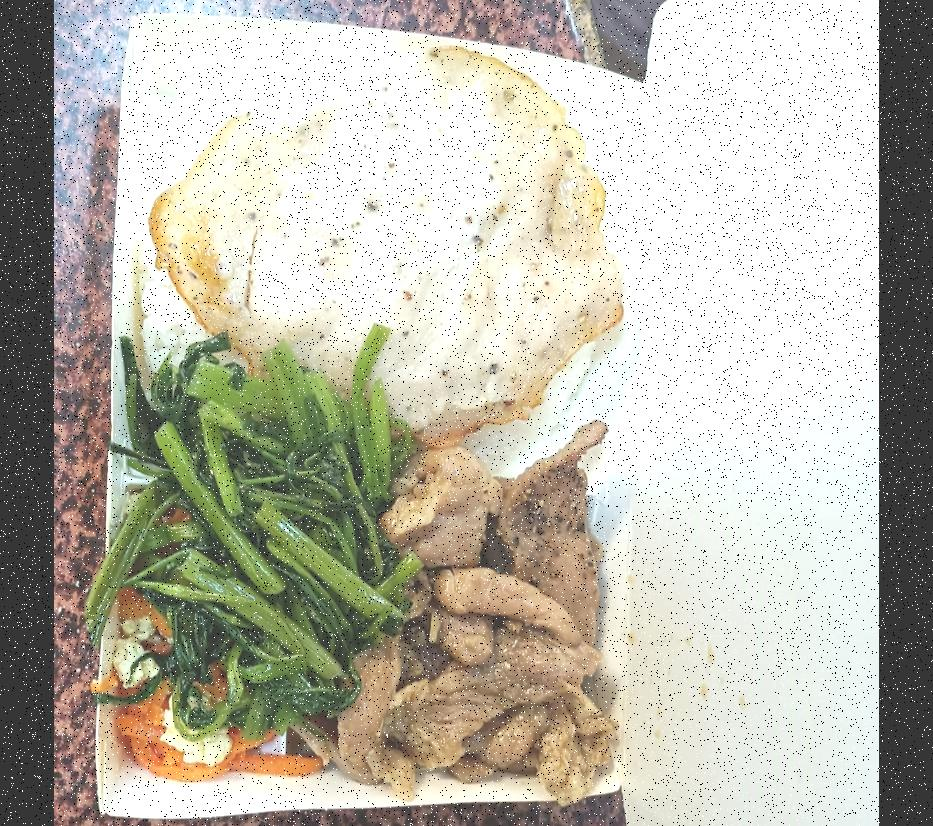box: (79, 27, 633, 826)
grilled chicken steak: (183, 91, 611, 417)
sauteed pork: (366, 465, 618, 790)
side dish: (151, 363, 393, 723), (115, 624, 263, 776)
white rice: (143, 65, 643, 451)
